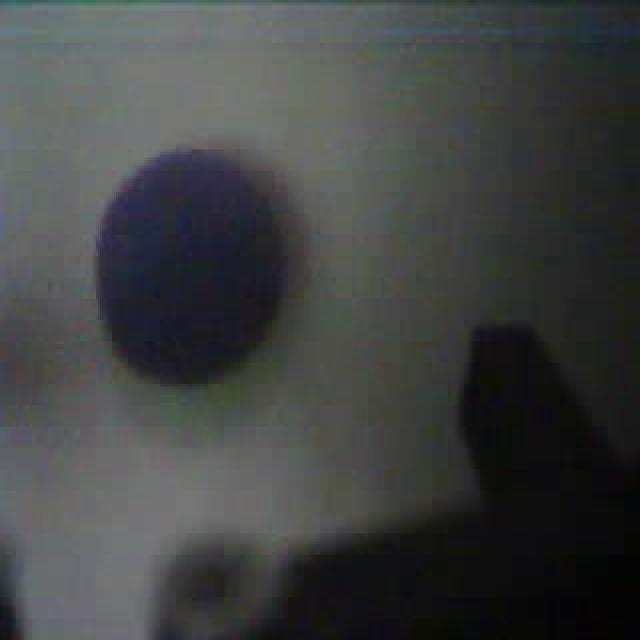blue_ball: (92, 141, 292, 384)
